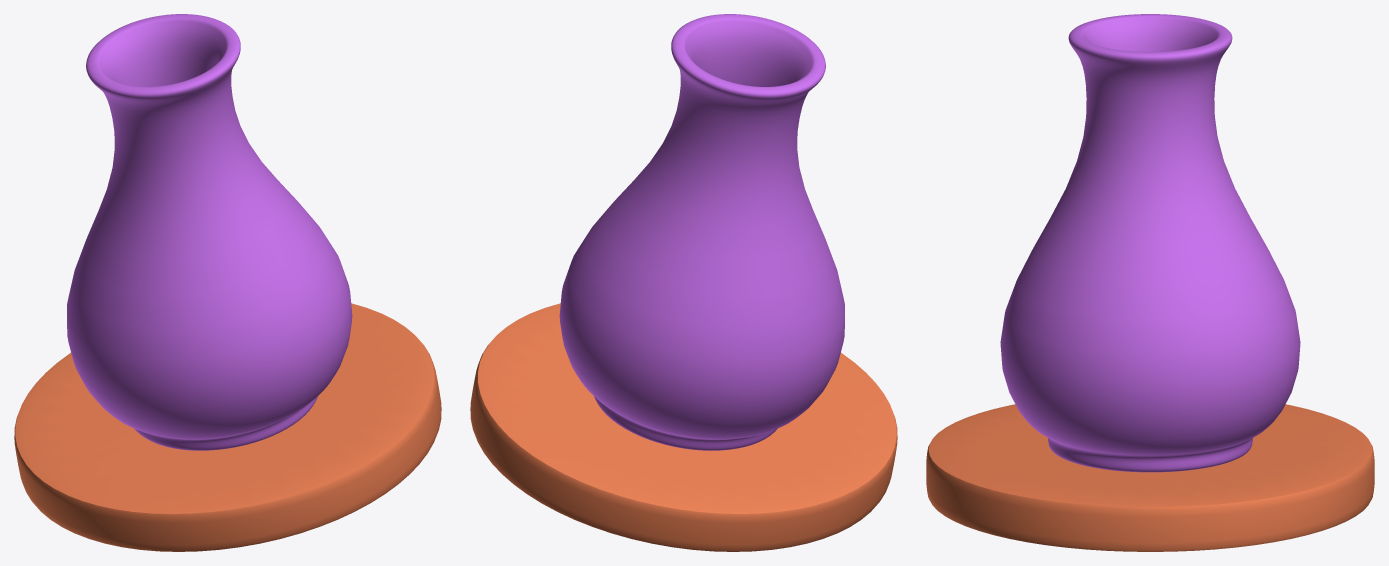
File: 30. Pottery.glb
3 renders of one model, left to right at view 1: azimuth 30°, elevation 25°; view 2: azimuth 150°, elevation 25°; view 3: azimuth 270°, elevation 25°, orthographic. The views are drawn at different scales.
Parts seen in each view (by area): view 1: Pottery, Cylinder; view 2: Pottery, Cylinder; view 3: Pottery, Cylinder.
Boxes of the visible parts, box(x1,y1,x2,y2) form: Pottery: box(67, 14, 352, 450); Cylinder: box(14, 303, 441, 551); Pottery: box(559, 14, 844, 450); Cylinder: box(470, 303, 897, 551); Pottery: box(1000, 14, 1300, 472); Cylinder: box(926, 404, 1374, 551).
Size of the model in its own units: 0.5439 by 0.6347 by 0.5459.
